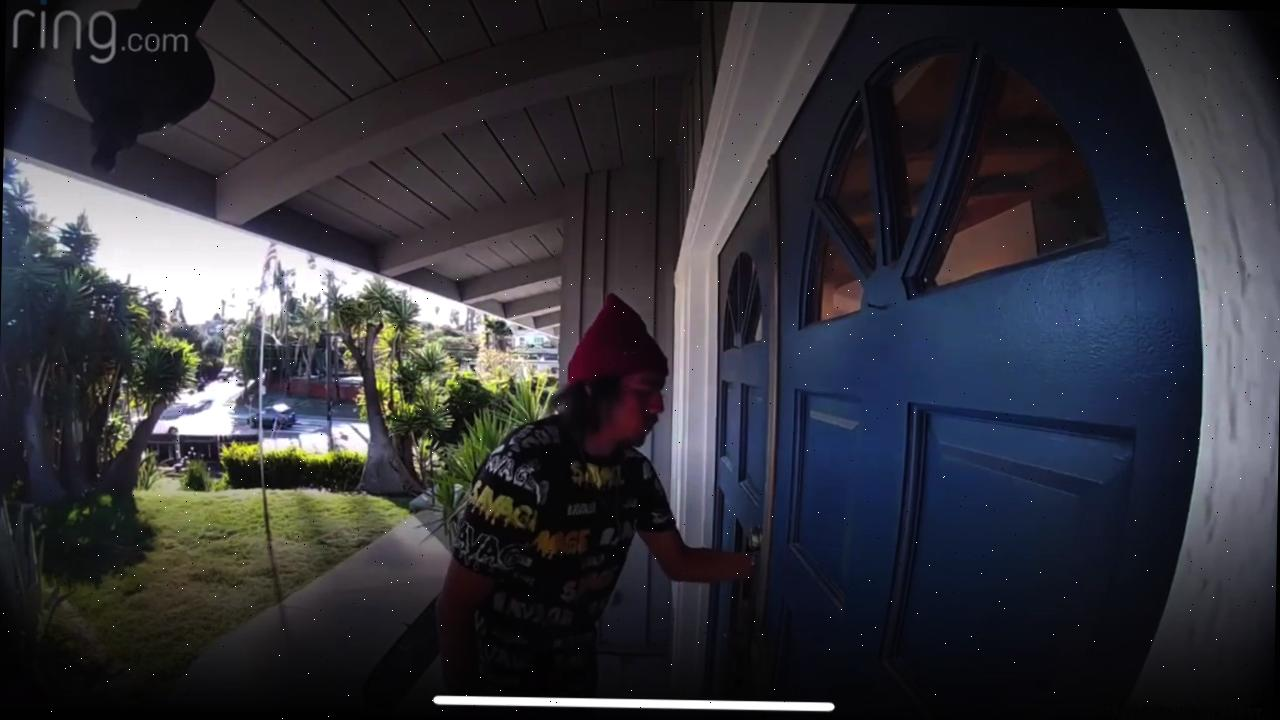suspicion: (422, 282, 801, 708)
